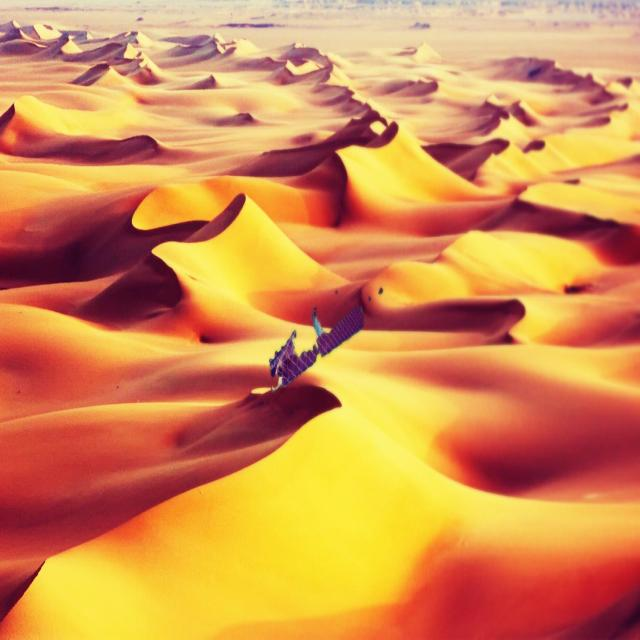airplane: (269, 303, 364, 392)
